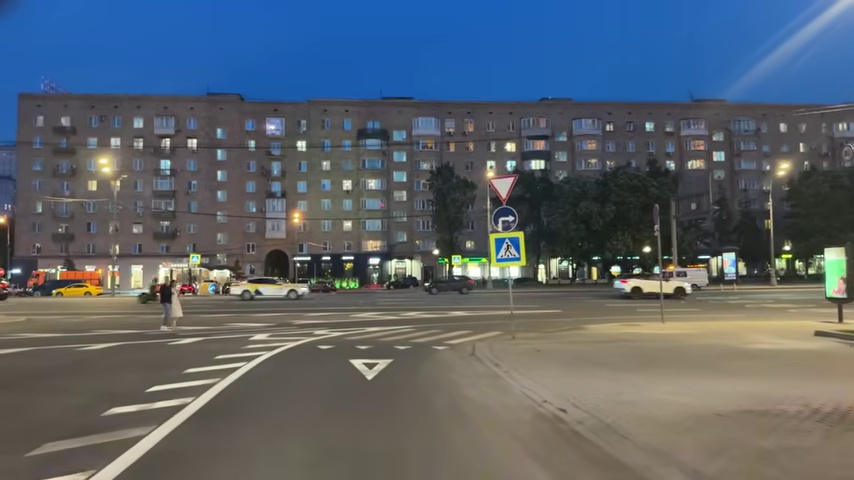acesa: (95, 154, 116, 177), (773, 160, 792, 179)
